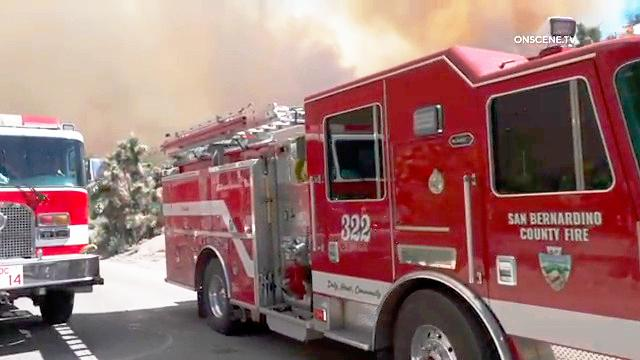smoke: (212, 9, 372, 66)
